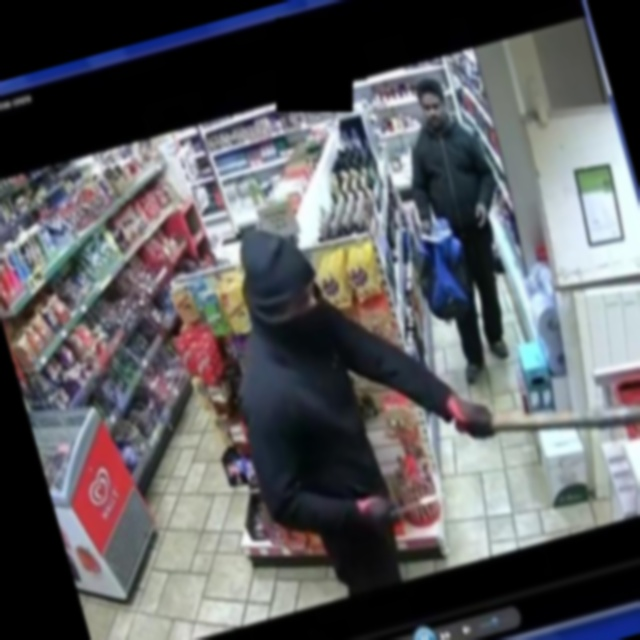gun: (445, 361, 640, 481), (369, 476, 462, 528)
